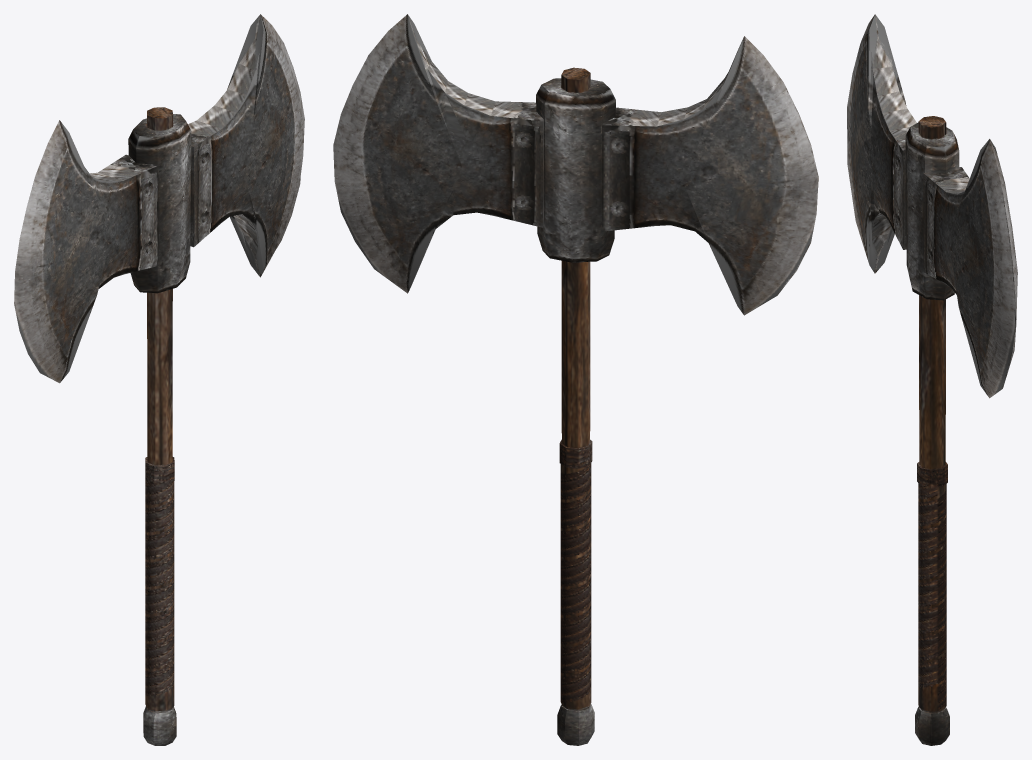
File: mm6_figc_axe.glb
3 renders of one model, left to right at view 1: azimuth 30°, elevation 25°; view 2: azimuth 150°, elevation 25°; view 3: azimuth 270°, elevation 25°, orthographic. The views are drawn at different scales.
Visible parts, largest first — view 1: Axe; view 2: Axe; view 3: Axe.
Part boxes in pixels (left/top/right/bottom): Axe: left=14, top=14, right=304, bottom=745; Axe: left=333, top=14, right=818, bottom=745; Axe: left=847, top=14, right=1017, bottom=745.
Bounding box in the file's own units: 0.3401 × 0.586 × 0.1366.
1 material, 1 textured.
